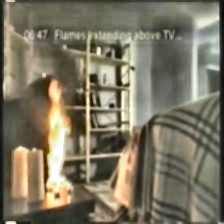fire: (26, 73, 82, 201)
